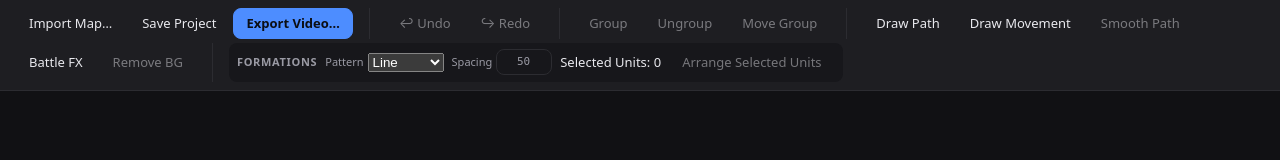
Test: CanvasActionBar (relocated Toolbar actions) › path-tool button toggles activeTool between path and select
Click the button with test id "path-tool": (908, 23) [863,8,953,39]
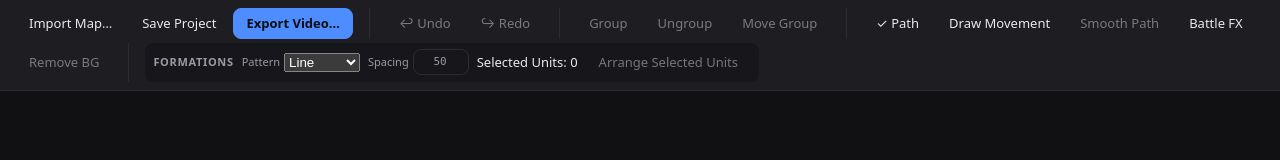
Expected: the button with test id "path-tool" reads "✓ Path"
Click the button with test id "path-tool": (898, 23) [863,8,932,39]
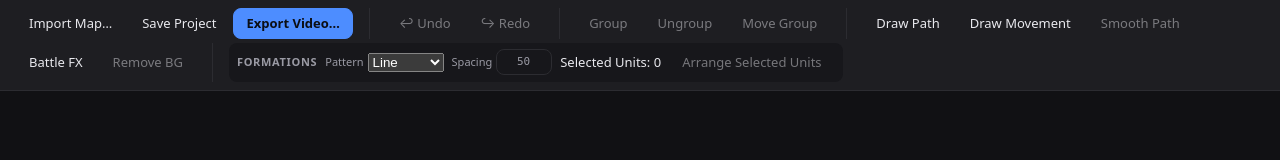
Expected: the button with test id "path-tool" reads "Draw Path", [863,8,953,39]
